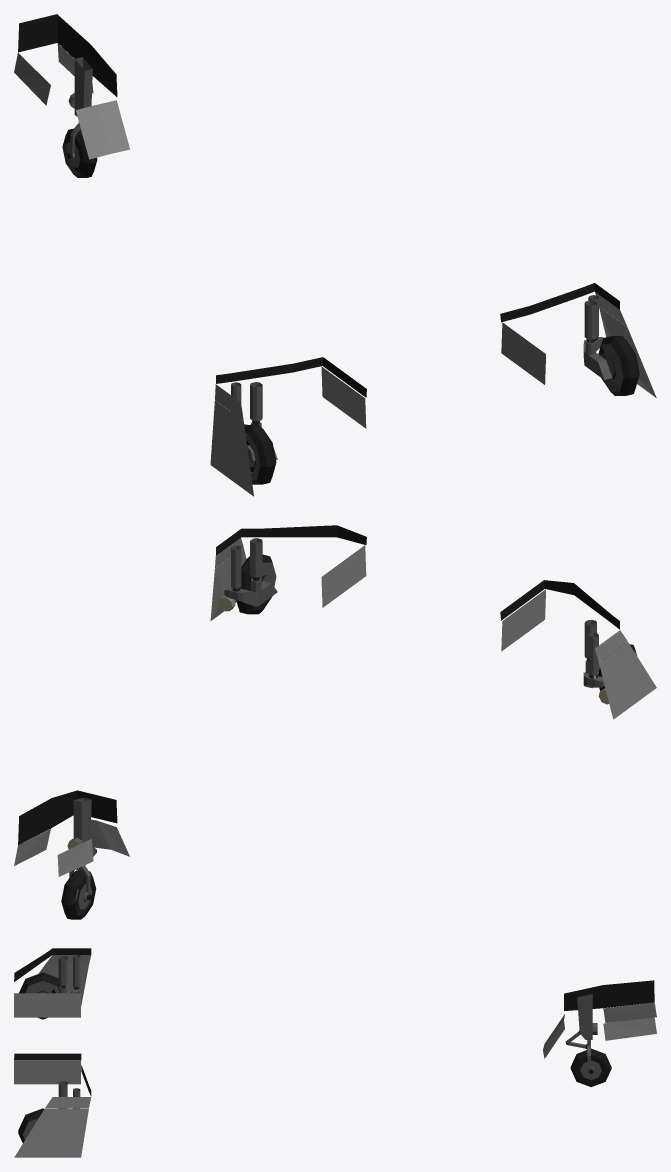
The model's file is Gear_HondaJET.obj.
3 views of the same model, one above another, from view 1: azimuth 30°, elevation 25°; view 2: azimuth 150°, elevation 25°; view 3: azimuth 270°, elevation 25° (orthographic). The views are drawn at different scales.
Parts seen in each view (by area): view 1: ShapeIndexedFaceSet.053_ShapeIndexedFaceSet.054, ShapeIndexedFaceSet.065_ShapeIndexedFaceSet.066, ShapeIndexedFaceSet.072_ShapeIndexedFaceSet.073, ShapeIndexedFaceSet.056_ShapeIndexedFaceSet.057, ShapeIndexedFaceSet.057_ShapeIndexedFaceSet.058, ShapeIndexedFaceSet.066_ShapeIndexedFaceSet.067, ShapeIndexedFaceSet.060_ShapeIndexedFaceSet.061, ShapeIndexedFaceSet.067_ShapeIndexedFaceSet.068, ShapeIndexedFaceSet.050_ShapeIndexedFaceSet.051, ShapeIndexedFaceSet.061_ShapeIndexedFaceSet.062, ShapeIndexedFaceSet.064_ShapeIndexedFaceSet.065, ShapeIndexedFaceSet.069_ShapeIndexedFaceSet.070 (+2 smaller); view 2: ShapeIndexedFaceSet.065_ShapeIndexedFaceSet.066, ShapeIndexedFaceSet.072_ShapeIndexedFaceSet.073, ShapeIndexedFaceSet.053_ShapeIndexedFaceSet.054, ShapeIndexedFaceSet.057_ShapeIndexedFaceSet.058, ShapeIndexedFaceSet.066_ShapeIndexedFaceSet.067, ShapeIndexedFaceSet.067_ShapeIndexedFaceSet.068, ShapeIndexedFaceSet.050_ShapeIndexedFaceSet.051, ShapeIndexedFaceSet.052_ShapeIndexedFaceSet.053, ShapeIndexedFaceSet.061_ShapeIndexedFaceSet.062, ShapeIndexedFaceSet.069_ShapeIndexedFaceSet.070, ShapeIndexedFaceSet.056_ShapeIndexedFaceSet.057, ShapeIndexedFaceSet.055_ShapeIndexedFaceSet.056 (+2 smaller); view 3: ShapeIndexedFaceSet.069_ShapeIndexedFaceSet.070, ShapeIndexedFaceSet.053_ShapeIndexedFaceSet.054, ShapeIndexedFaceSet.067_ShapeIndexedFaceSet.068, ShapeIndexedFaceSet.066_ShapeIndexedFaceSet.067, ShapeIndexedFaceSet.050_ShapeIndexedFaceSet.051, ShapeIndexedFaceSet.065_ShapeIndexedFaceSet.066, ShapeIndexedFaceSet.061_ShapeIndexedFaceSet.062, ShapeIndexedFaceSet.054_ShapeIndexedFaceSet.055, ShapeIndexedFaceSet.052_ShapeIndexedFaceSet.053, ShapeIndexedFaceSet.055_ShapeIndexedFaceSet.056, ShapeIndexedFaceSet.072_ShapeIndexedFaceSet.073, ShapeIndexedFaceSet.068_ShapeIndexedFaceSet.069 (+3 smaller).
Boxes of the visible parts, <box> form: ShapeIndexedFaceSet.053_ShapeIndexedFaceSet.054: <box>18,14,117,96</box>; ShapeIndexedFaceSet.065_ShapeIndexedFaceSet.066: <box>216,283,619,397</box>; ShapeIndexedFaceSet.072_ShapeIndexedFaceSet.073: <box>210,400,253,496</box>; ShapeIndexedFaceSet.056_ShapeIndexedFaceSet.057: <box>76,100,129,159</box>; ShapeIndexedFaceSet.057_ShapeIndexedFaceSet.058: <box>583,295,623,391</box>; ShapeIndexedFaceSet.066_ShapeIndexedFaceSet.067: <box>501,322,545,384</box>; ShapeIndexedFaceSet.060_ShapeIndexedFaceSet.061: <box>598,336,639,395</box>; ShapeIndexedFaceSet.067_ShapeIndexedFaceSet.068: <box>321,366,366,428</box>; ShapeIndexedFaceSet.050_ShapeIndexedFaceSet.051: <box>66,57,92,167</box>; ShapeIndexedFaceSet.061_ShapeIndexedFaceSet.062: <box>231,382,277,480</box>; ShapeIndexedFaceSet.064_ShapeIndexedFaceSet.065: <box>244,424,276,484</box>; ShapeIndexedFaceSet.069_ShapeIndexedFaceSet.070: <box>599,307,656,397</box>; ShapeIndexedFaceSet.065_ShapeIndexedFaceSet.066: <box>216,525,619,629</box>; ShapeIndexedFaceSet.072_ShapeIndexedFaceSet.073: <box>599,641,656,719</box>; ShapeIndexedFaceSet.053_ShapeIndexedFaceSet.054: <box>18,790,117,844</box>; ShapeIndexedFaceSet.057_ShapeIndexedFaceSet.058: <box>224,538,277,606</box>; ShapeIndexedFaceSet.066_ShapeIndexedFaceSet.067: <box>321,545,366,607</box>; ShapeIndexedFaceSet.067_ShapeIndexedFaceSet.068: <box>501,589,545,651</box>; ShapeIndexedFaceSet.050_ShapeIndexedFaceSet.051: <box>69,797,96,909</box>; ShapeIndexedFaceSet.052_ShapeIndexedFaceSet.053: <box>61,850,96,919</box>; ShapeIndexedFaceSet.061_ShapeIndexedFaceSet.062: <box>583,619,636,688</box>; ShapeIndexedFaceSet.069_ShapeIndexedFaceSet.070: <box>210,548,246,620</box>; ShapeIndexedFaceSet.056_ShapeIndexedFaceSet.057: <box>90,819,129,856</box>; ShapeIndexedFaceSet.055_ShapeIndexedFaceSet.056: <box>57,839,93,876</box>; ShapeIndexedFaceSet.069_ShapeIndexedFaceSet.070: <box>14,1109,88,1157</box>; ShapeIndexedFaceSet.053_ShapeIndexedFaceSet.054: <box>564,980,654,1010</box>; ShapeIndexedFaceSet.067_ShapeIndexedFaceSet.068: <box>14,993,80,1017</box>; ShapeIndexedFaceSet.066_ShapeIndexedFaceSet.067: <box>14,1061,80,1084</box>; ShapeIndexedFaceSet.050_ShapeIndexedFaceSet.051: <box>565,994,601,1079</box>; ShapeIndexedFaceSet.065_ShapeIndexedFaceSet.066: <box>14,948,91,1096</box>; ShapeIndexedFaceSet.061_ShapeIndexedFaceSet.062: <box>25,954,80,993</box>; ShapeIndexedFaceSet.054_ShapeIndexedFaceSet.055: <box>603,1017,656,1040</box>; ShapeIndexedFaceSet.052_ShapeIndexedFaceSet.053: <box>566,1030,611,1086</box>; ShapeIndexedFaceSet.055_ShapeIndexedFaceSet.056: <box>603,1002,656,1023</box>; ShapeIndexedFaceSet.072_ShapeIndexedFaceSet.073: <box>38,965,88,1006</box>; ShapeIndexedFaceSet.068_ShapeIndexedFaceSet.069: <box>45,1097,91,1108</box>.
Bounding box in the file's own units: 34.34 × 10.5 × 61.92.
